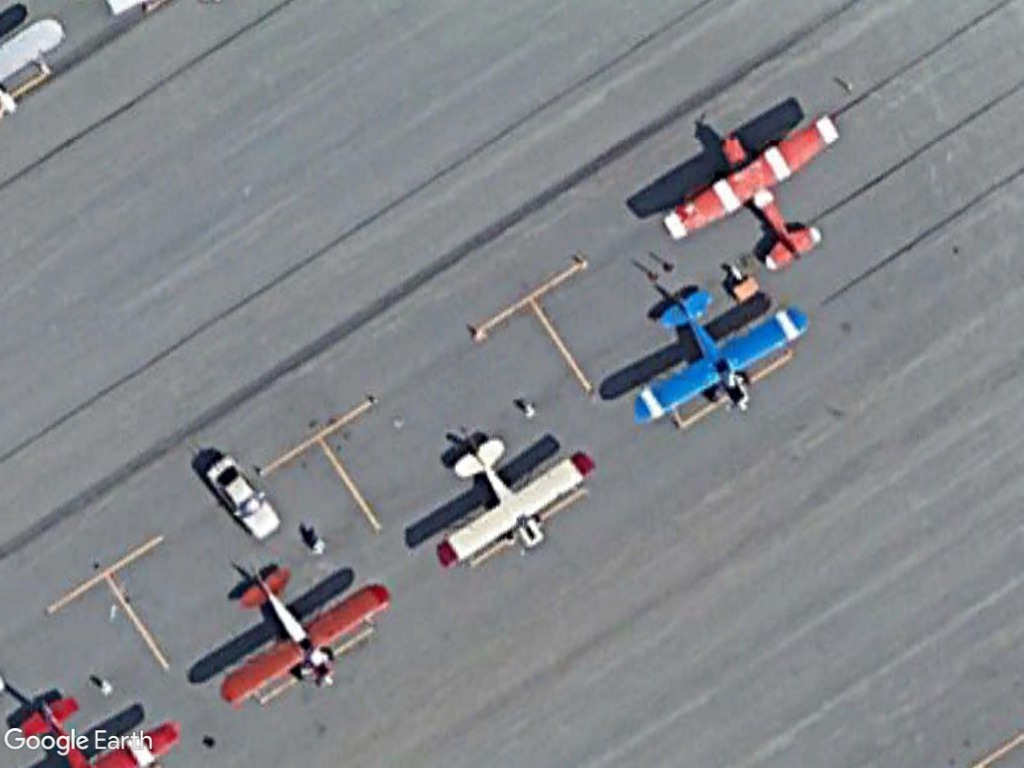car: (194, 447, 286, 545)
trainer: (659, 110, 840, 276), (623, 282, 809, 427), (429, 429, 596, 577), (220, 565, 390, 708)
